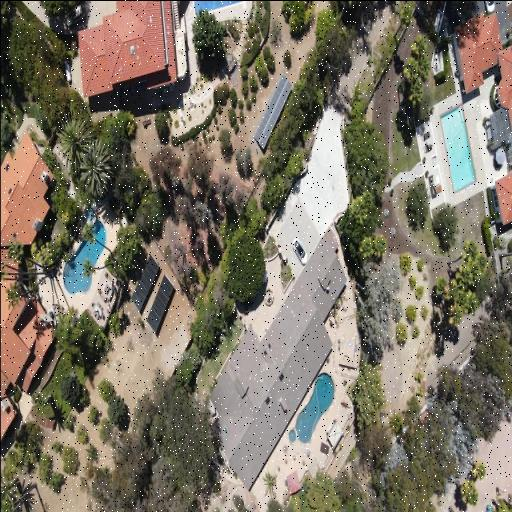solar-panel: (253, 72, 292, 148), (130, 253, 159, 312), (145, 272, 173, 333)
